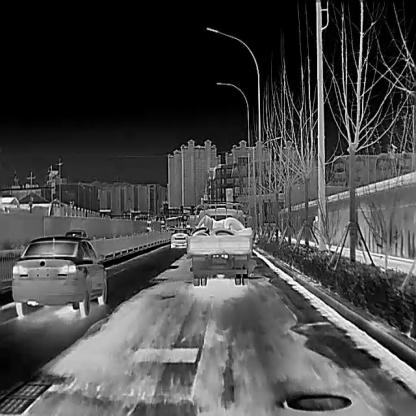car: (10, 233, 106, 318), (170, 226, 189, 248), (64, 227, 86, 239)
truck: (184, 198, 255, 286)
